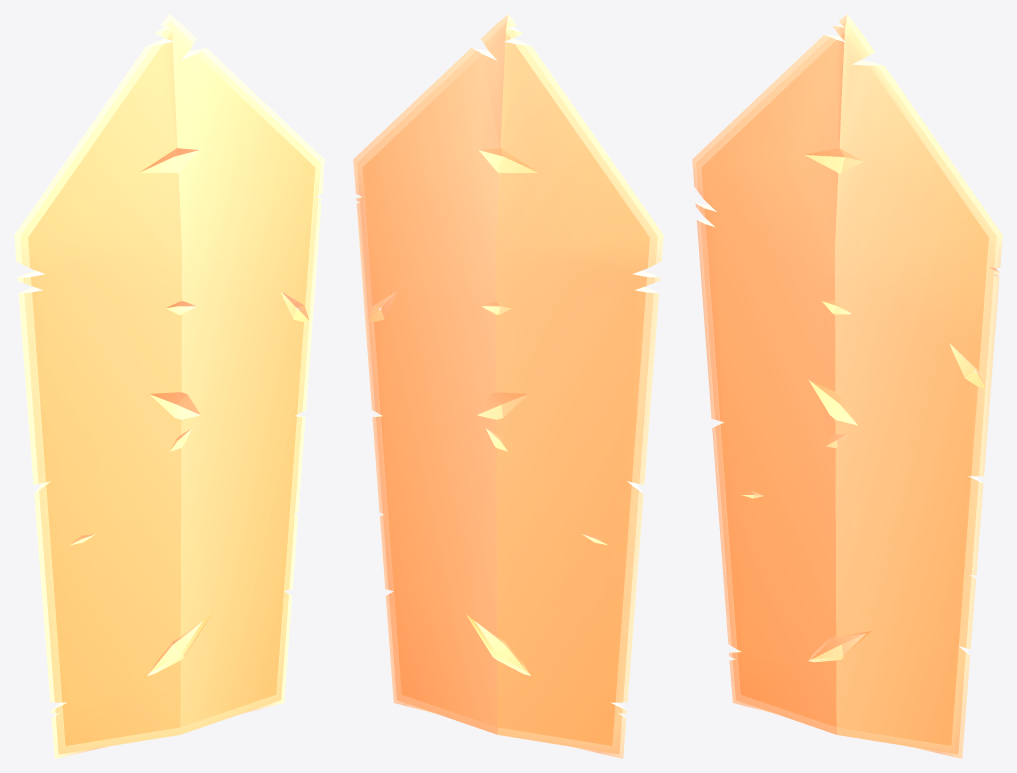
Rendered from wood_blade_scratched_063.glb.
3 renders of one model, left to right at view 1: azimuth 30°, elevation 25°; view 2: azimuth 150°, elevation 25°; view 3: azimuth 330°, elevation 25°, orthographic.
Parts seen in each view (by area): view 1: wood_blade_scratched.063; view 2: wood_blade_scratched.063; view 3: wood_blade_scratched.063.
Boxes of the visible parts, box(x1,y1,x2,y2) form: wood_blade_scratched.063: box(14, 14, 324, 758); wood_blade_scratched.063: box(353, 14, 663, 758); wood_blade_scratched.063: box(692, 14, 1002, 758).
Bounding box in the file's own units: 5.17 × 11.43 × 0.7262.
1 material, 1 textured.
